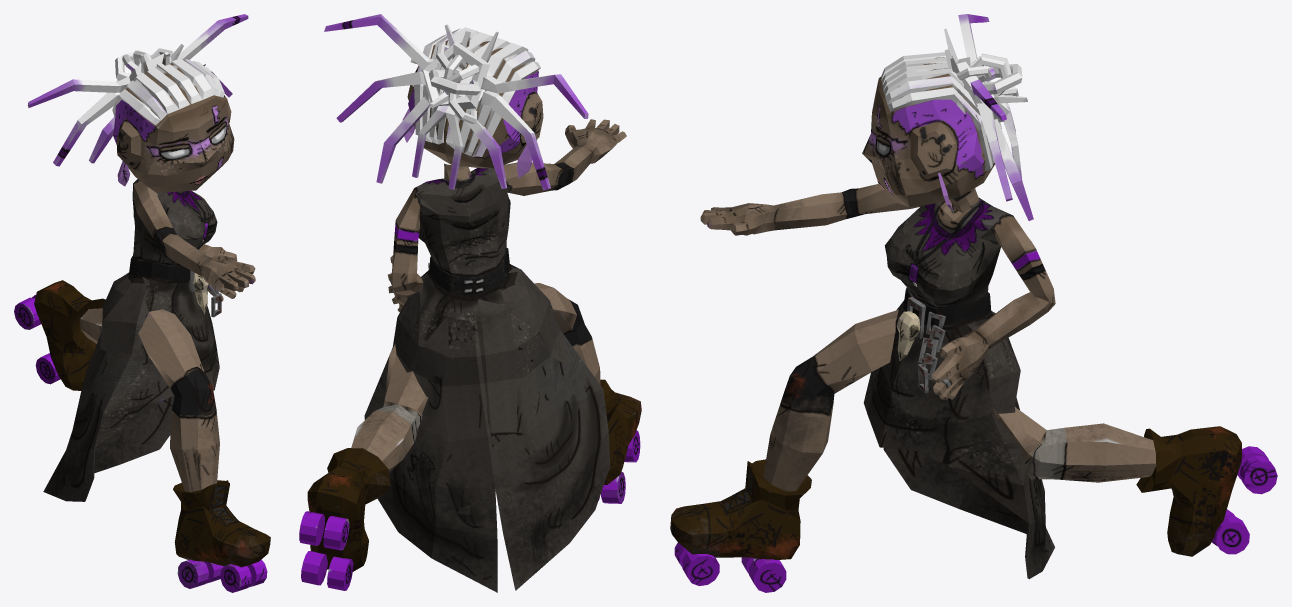
File: bruja_000012.obj
3 renders of one model, left to right at view 1: azimuth 30°, elevation 25°; view 2: azimuth 150°, elevation 25°; view 3: azimuth 270°, elevation 25°, orthographic. The views are drawn at different scales.
Visible parts, largest first — view 1: Bruja_Plane.001; view 2: Bruja_Plane.001; view 3: Bruja_Plane.001.
Boxes of the visible parts, x1,y1,x2,y2 form: Bruja_Plane.001: (14, 14, 270, 592); Bruja_Plane.001: (299, 14, 641, 592); Bruja_Plane.001: (670, 14, 1277, 592).
Bounding box in the file's own units: 7.41 × 14.74 × 14.31.
